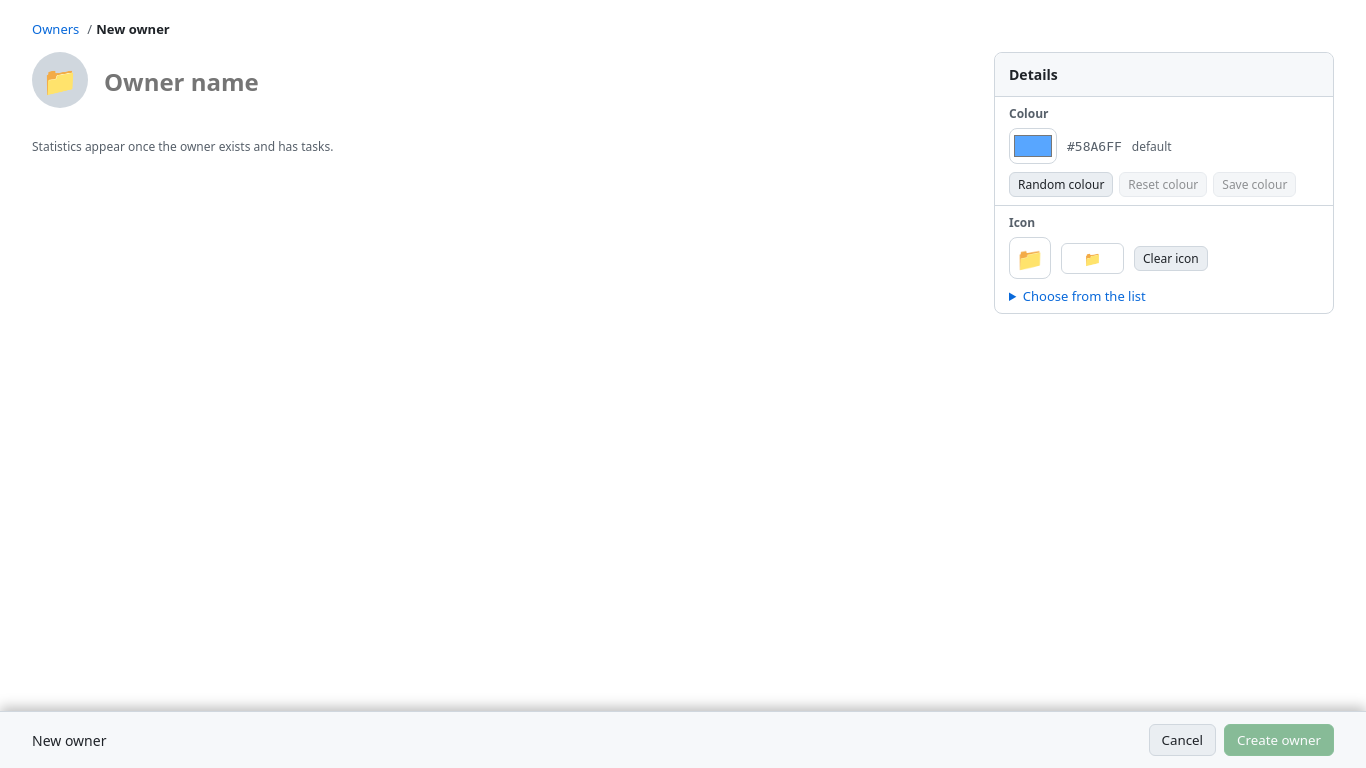
it: owner page › shows a 409 from the server inline
Type "ann" into the text box labelled "name" at (528, 80), box x1=94 y1=60 x2=962 y2=100
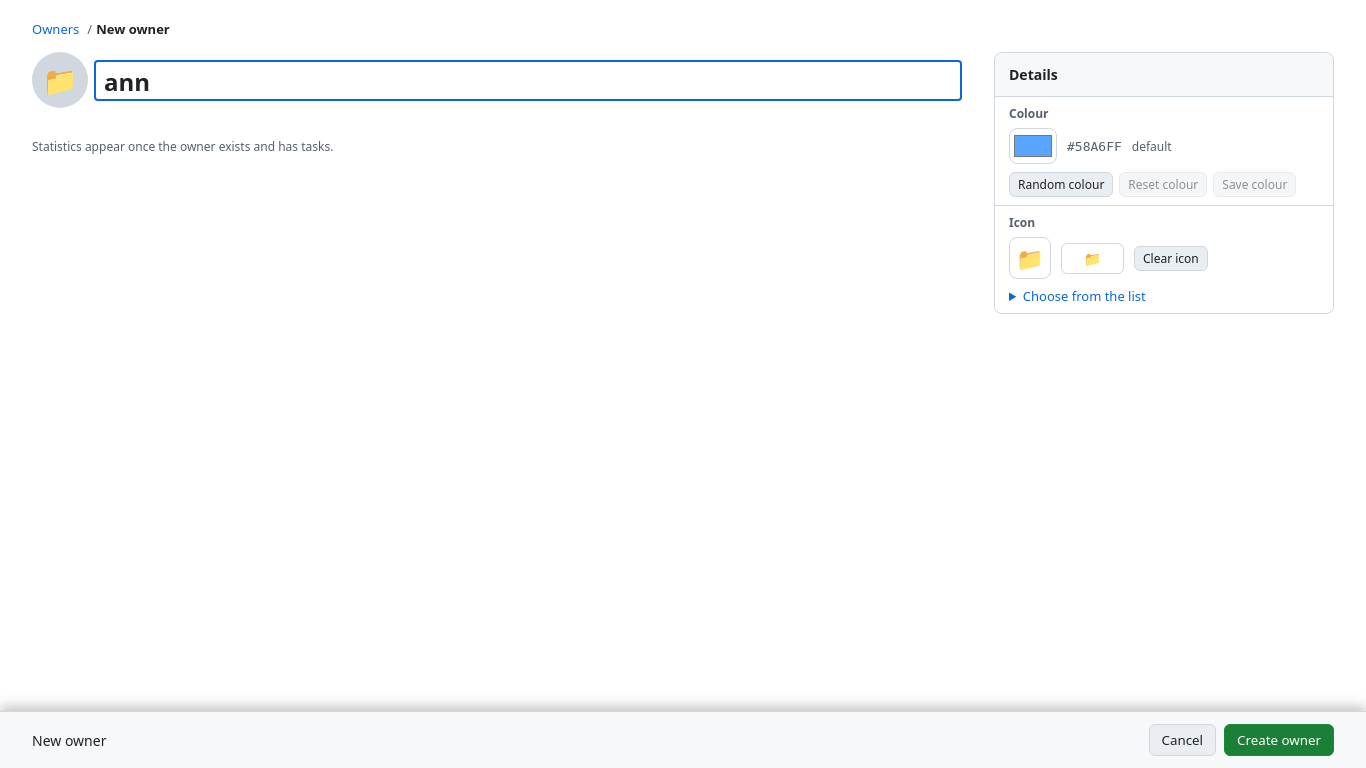
Click the button "Create owner" at (1279, 740), box x1=1224 y1=724 x2=1334 y2=756
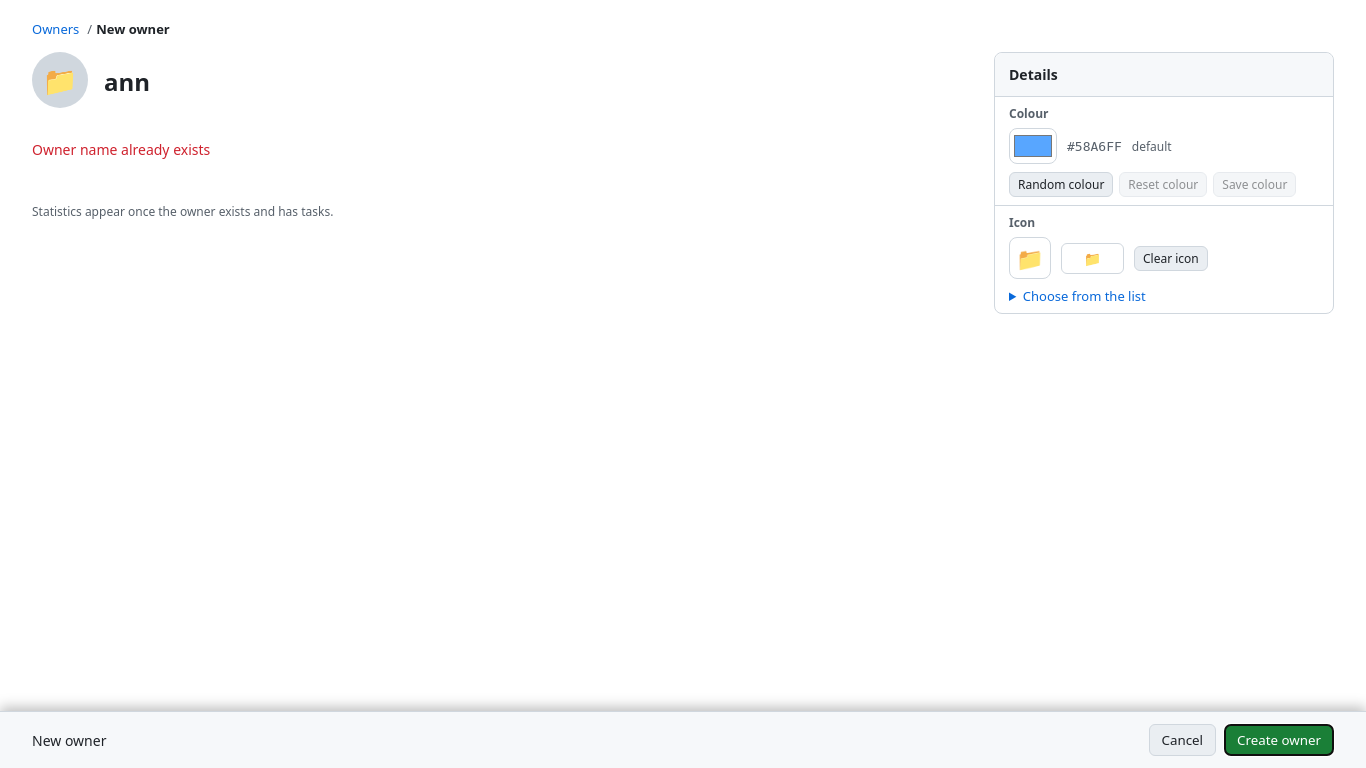
Now the message reads "Owner name already exists", box x1=32 y1=140 x2=210 y2=159
